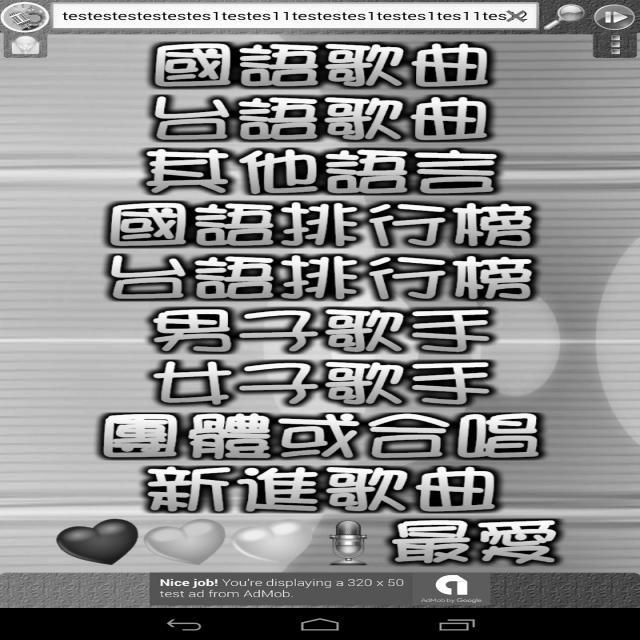ImageView: (55, 521, 378, 563), (546, 2, 634, 60), (411, 572, 490, 606), (2, 1, 50, 55)
TextView: (94, 41, 520, 511), (60, 6, 476, 23), (159, 576, 407, 602)
